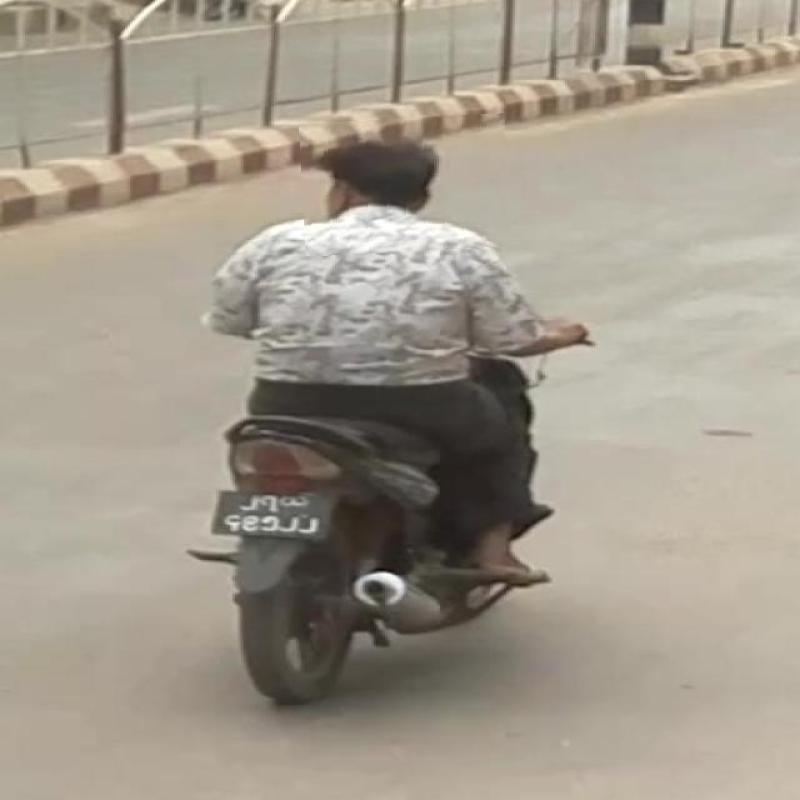nohelmet: (301, 116, 510, 254)
